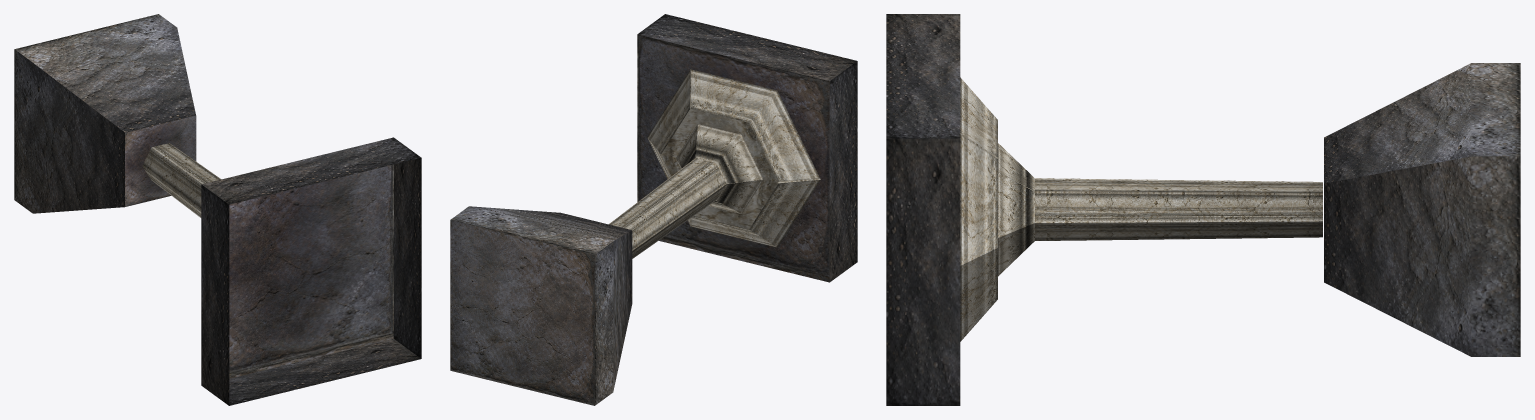
Rendered from mm9_deco_pillarfallen.glb.
The picture shows the model from 3 angles, left to right: view 1: azimuth 30°, elevation 25°; view 2: azimuth 150°, elevation 25°; view 3: azimuth 270°, elevation 25°; orthographic projection. The views are drawn at different scales.
Visible parts, largest first — view 1: Pillarfallen; view 2: Pillarfallen; view 3: Pillarfallen.
Part boxes in pixels (<box>): Pillarfallen: <box>14,14,421,405</box>; Pillarfallen: <box>450,14,857,405</box>; Pillarfallen: <box>886,14,1520,405</box>.
Bounding box in the file's own units: 0.5013 × 0.5013 × 1.08.
2 materials, 2 textured.
